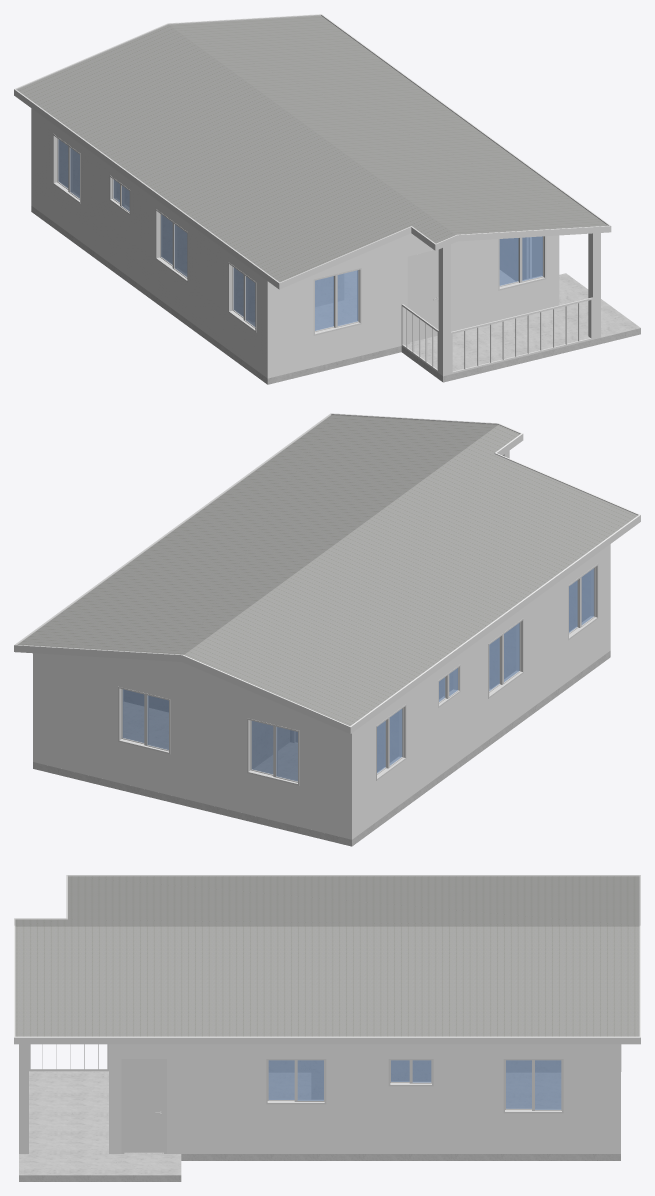
Rendered from house_3.glb.
3 renders of one model, top to bottom at view 1: azimuth 30°, elevation 25°; view 2: azimuth 150°, elevation 25°; view 3: azimuth 270°, elevation 25°, orthographic. The views are drawn at different scales.
Visible parts, largest first — view 1: house_3; view 2: house_3; view 3: house_3.
Boxes of the visible parts, box(x1,y1,x2,y2) form: house_3: box(14, 14, 640, 384); house_3: box(14, 413, 640, 846); house_3: box(14, 875, 640, 1181).
Bounding box in the file's own units: 8.5 × 3.49 × 12.55.
Materials: 7 (2 with a texture image).
